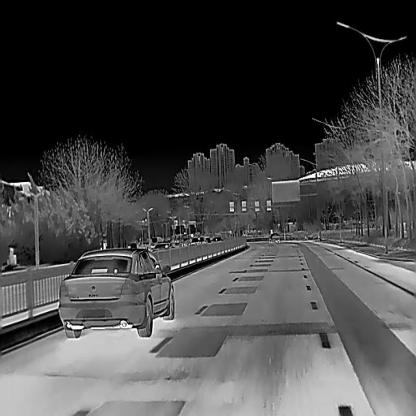car: (57, 247, 176, 339), (151, 242, 175, 254), (267, 230, 282, 244), (190, 235, 205, 245)
